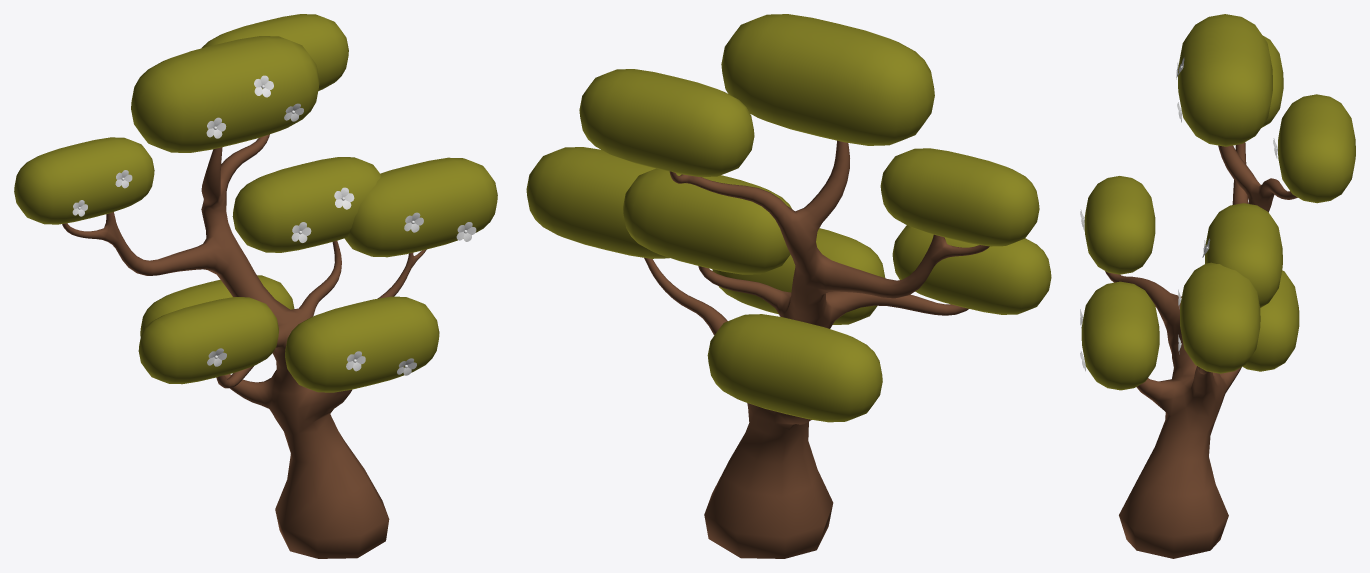
File: Tree.gltf
3 views of the same model, side by side, from view 1: azimuth 30°, elevation 25°; view 2: azimuth 150°, elevation 25°; view 3: azimuth 270°, elevation 25° (orthographic). The views are drawn at different scales.
Visible parts, largest first — view 1: FoM_ARFilter_Tree-001; view 2: FoM_ARFilter_Tree-001; view 3: FoM_ARFilter_Tree-001.
Part boxes in pixels (left/top/right/bottom): FoM_ARFilter_Tree-001: left=14, top=14, right=497, bottom=558; FoM_ARFilter_Tree-001: left=526, top=14, right=1051, bottom=558; FoM_ARFilter_Tree-001: left=1080, top=14, right=1355, bottom=558.
Bounding box in the file's own units: 1.9 × 1.98 × 1.04.
Materials: 2 (1 with a texture image).
